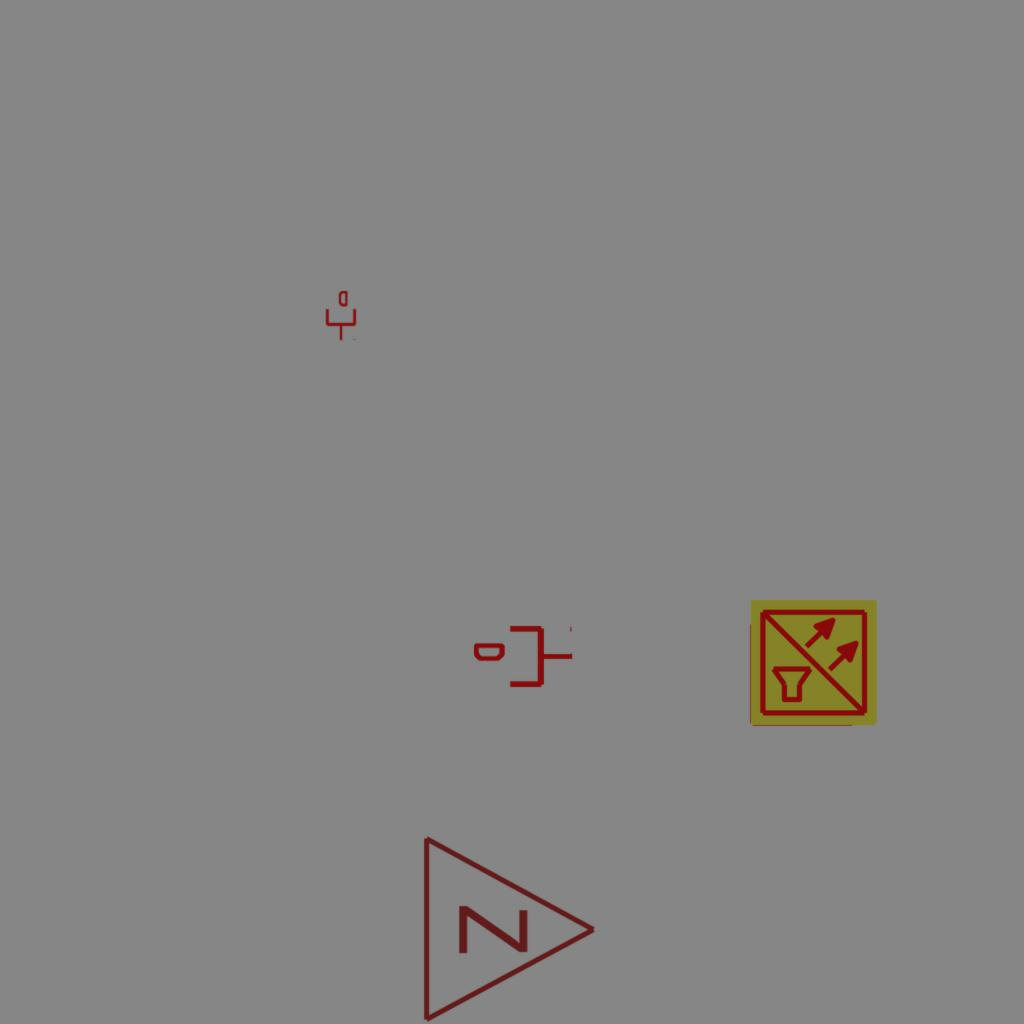Datenanschluss_einfach: (474, 622, 574, 691), (324, 291, 358, 341)
OKW_Multisensormelder_(Kombination_optischer_Rauch-Kahlenmonoxid_Waerme-Melder): (748, 597, 880, 729)
Zimmersignalleuchte: (409, 829, 609, 1024)
